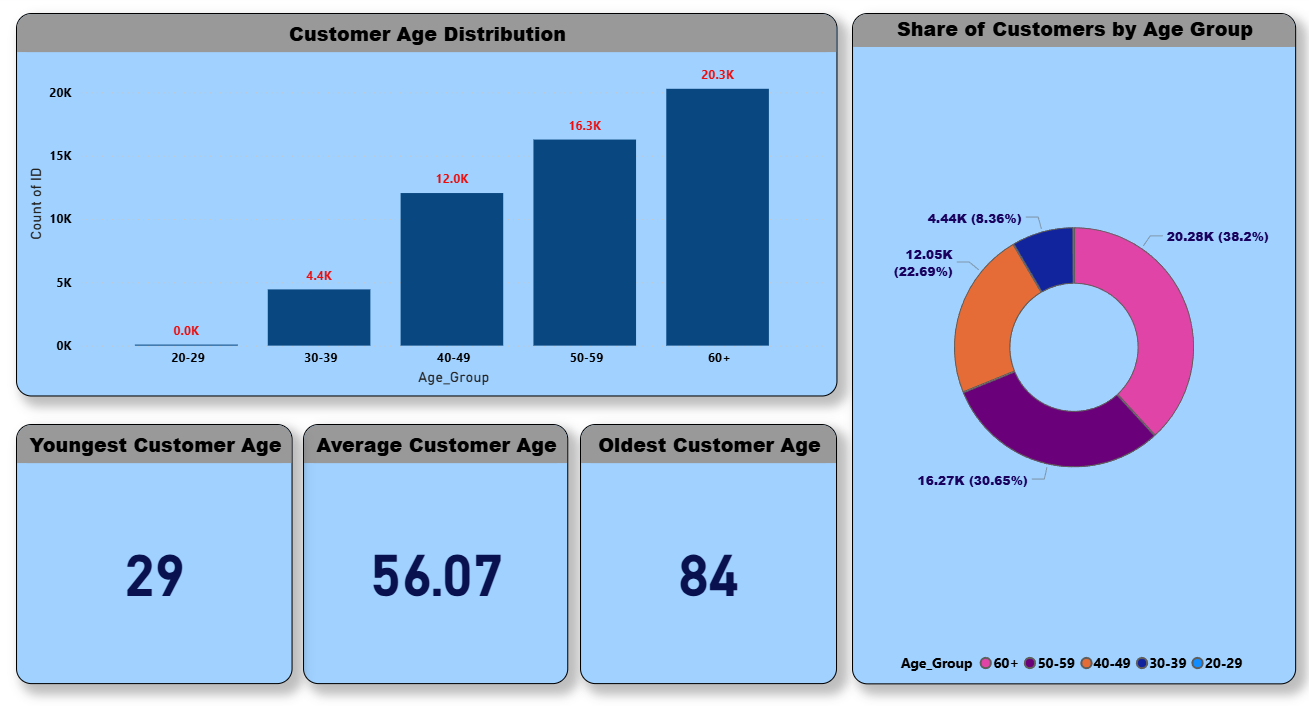

This screenshot's page, from the dashboard's own definition file:
{"tool":"powerbi","page":{"name":"Customer Age Distribution","canvas":[1280,720],"ordinal":0},"visuals":[{"type":"clusteredColumnChart","title":"Customer Age Distribution","fields":{"Category":["marketing_data.Age_Group"],"Y":["CountNonNull(marketing_data.ID)"]},"box":[19.5,17.5,798.5,372.5],"z":0},{"type":"card","title":"Average Customer Age","fields":{"Values":["Avg(marketing_data.Customer_Age)"]},"box":[298.6,417.3,257.8,252.9],"z":1},{"type":"card","title":"Youngest Customer Age","fields":{"Values":["Min(marketing_data.Customer_Age)"]},"box":[19.5,417.3,269.4,252.9],"z":2},{"type":"card","title":"Oldest Customer Age","fields":{"Values":["Max(marketing_data.Customer_Age)"]},"box":[568,417.3,250,252.9],"z":3},{"type":"donutChart","title":"Share of Customers by Age Group","fields":{"Category":["marketing_data.Age_Group"],"Y":["CountNonNull(marketing_data.ID)"]},"box":[832.6,17.5,431.9,652.6],"z":4}]}

Visuals, with their boxes on the page's 1280x720 design canvas (x1, y1, x2, y2). These are canvas units, not pixel positions in the 1309x706 screenshot, which may show the page scaled, cropped or inside an application window:
"Customer Age Distribution" clusteredColumnChart: pyautogui.locateOnScreen(20, 18, 818, 390)
"Average Customer Age" card: pyautogui.locateOnScreen(299, 417, 556, 670)
"Youngest Customer Age" card: pyautogui.locateOnScreen(20, 417, 289, 670)
"Oldest Customer Age" card: pyautogui.locateOnScreen(568, 417, 818, 670)
"Share of Customers by Age Group" donutChart: pyautogui.locateOnScreen(833, 18, 1264, 670)
